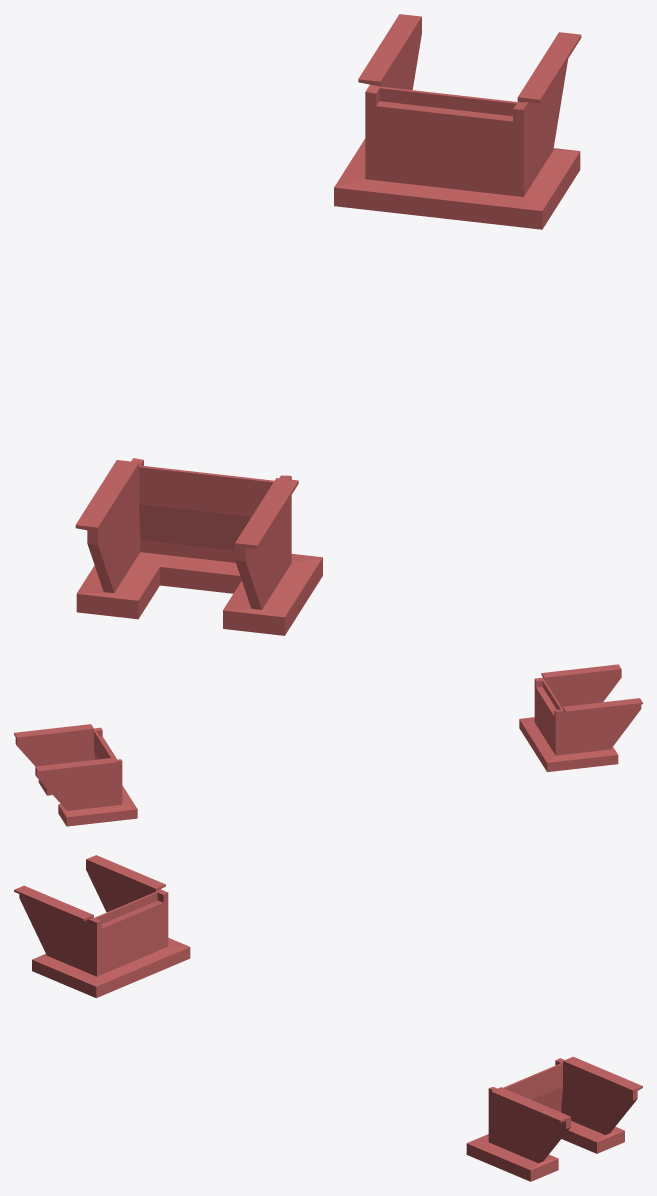
Rendered from bridge1_abutments.obj.
3 renders of one model, top to bottom at view 1: azimuth 30°, elevation 25°; view 2: azimuth 150°, elevation 25°; view 3: azimuth 270°, elevation 25°, orthographic. The views are drawn at different scales.
Parts seen in each view (by area): view 1: mesh_1, mesh_0; view 2: mesh_0, mesh_1; view 3: mesh_0, mesh_1.
Boxes of the visible parts, x1=… form: mesh_1: x1=334, y1=14, x2=581, y2=229; mesh_0: x1=75, y1=458, x2=322, y2=635; mesh_0: x1=519, y1=664, x2=642, y2=772; mesh_1: x1=14, y1=724, x2=137, y2=826; mesh_0: x1=14, y1=855, x2=190, y2=998; mesh_1: x1=466, y1=1056, x2=642, y2=1181.
Bounding box in the file's own units: 74.6 × 8.98 × 74.6.
